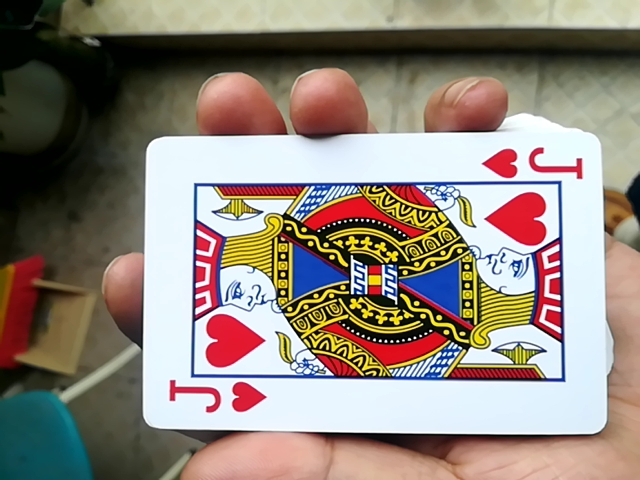hx j: (129, 124, 597, 445)
